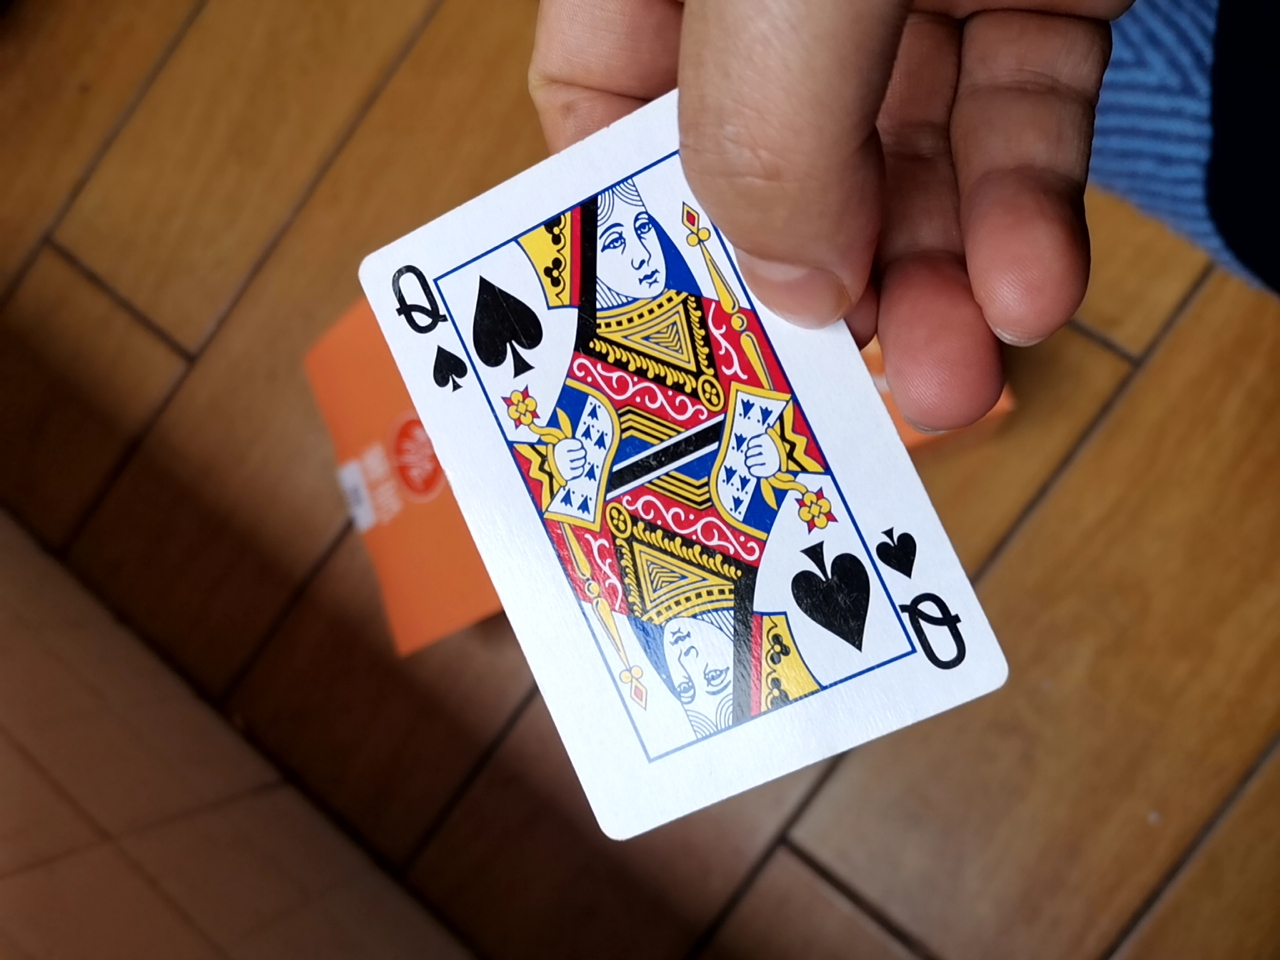ht q: (350, 79, 997, 876)
